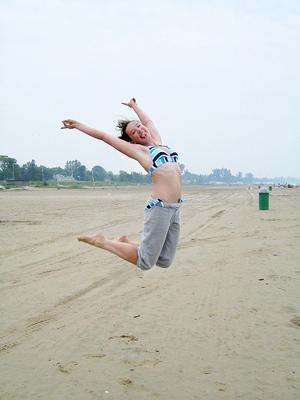person: (62, 98, 182, 272)
